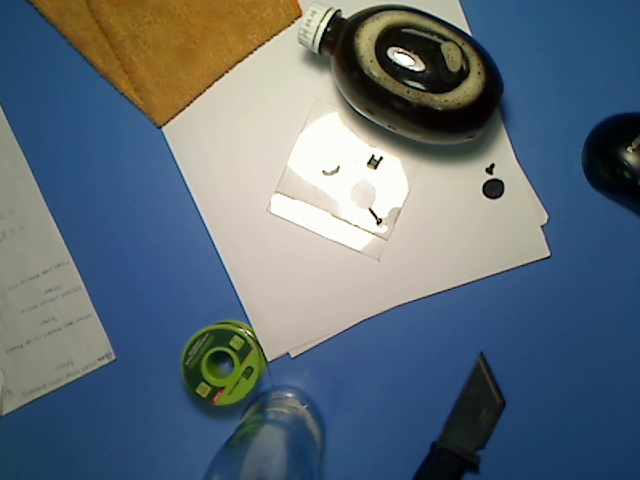plast_bottle: (295, 2, 503, 151)
